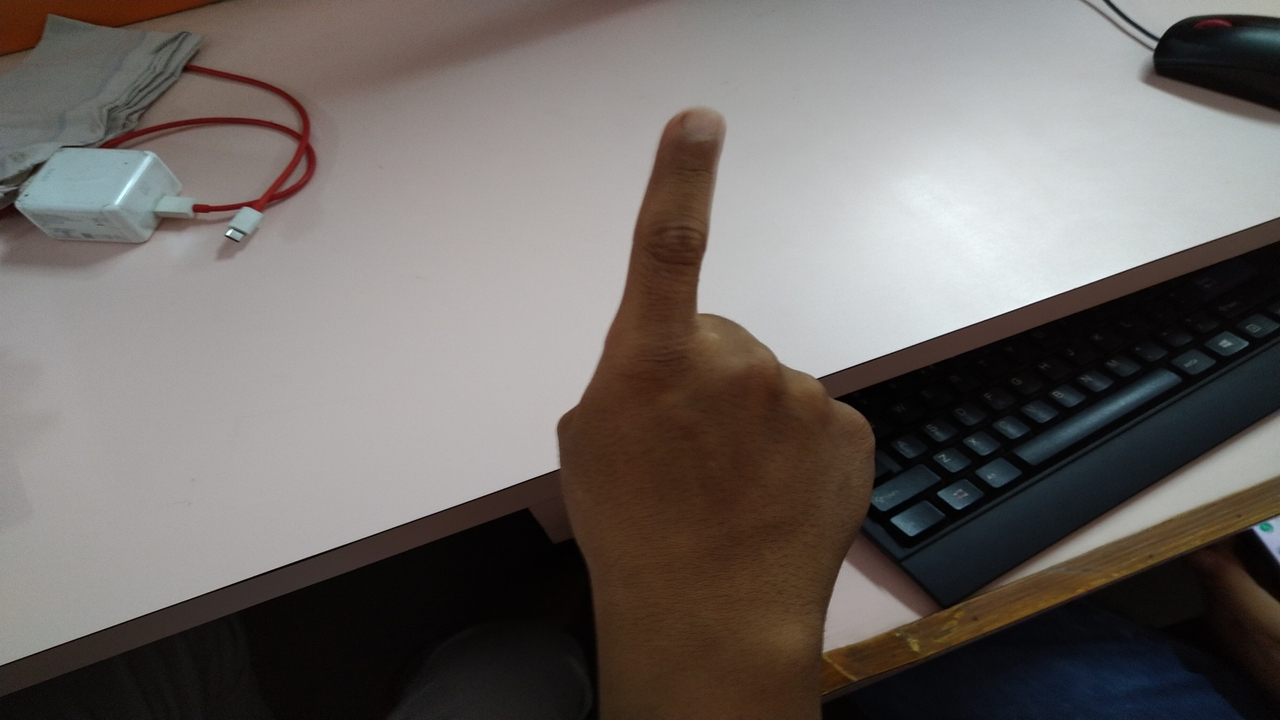fingertip: (654, 104, 730, 156)
